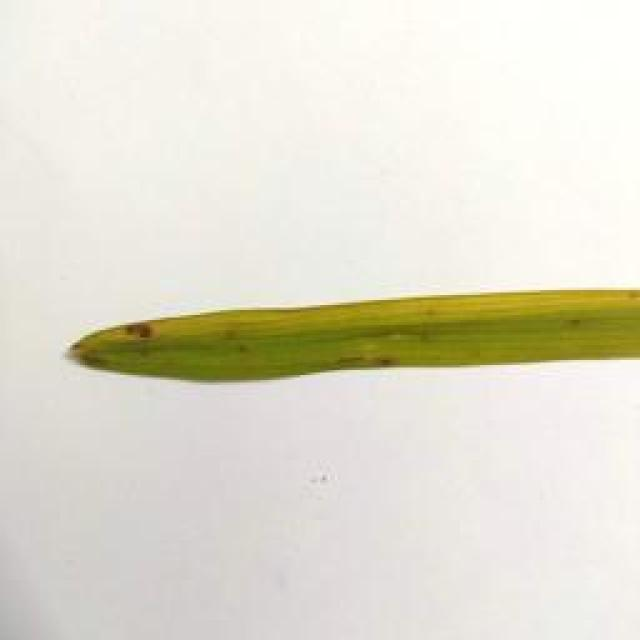Brown_Spot: (340, 351, 428, 378), (216, 330, 260, 368), (556, 304, 597, 335), (101, 328, 180, 344)
